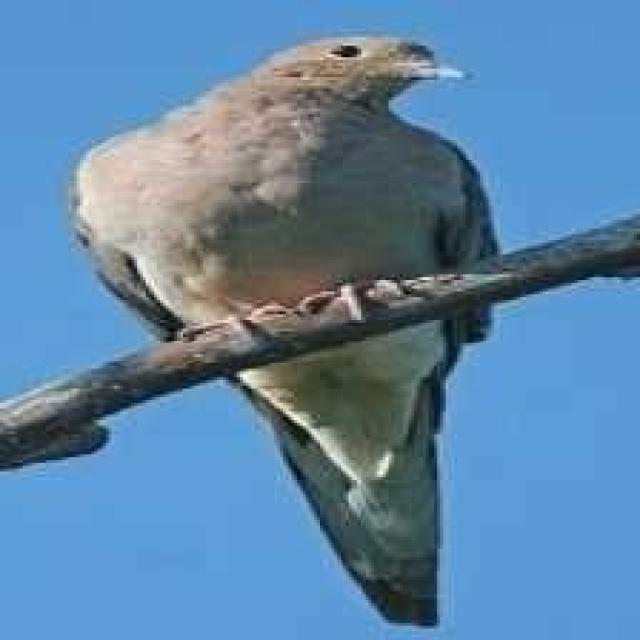dove: (61, 32, 516, 630)
